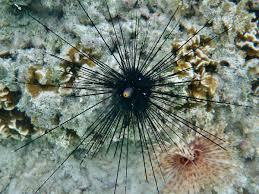urchin: (17, 13, 258, 164)
